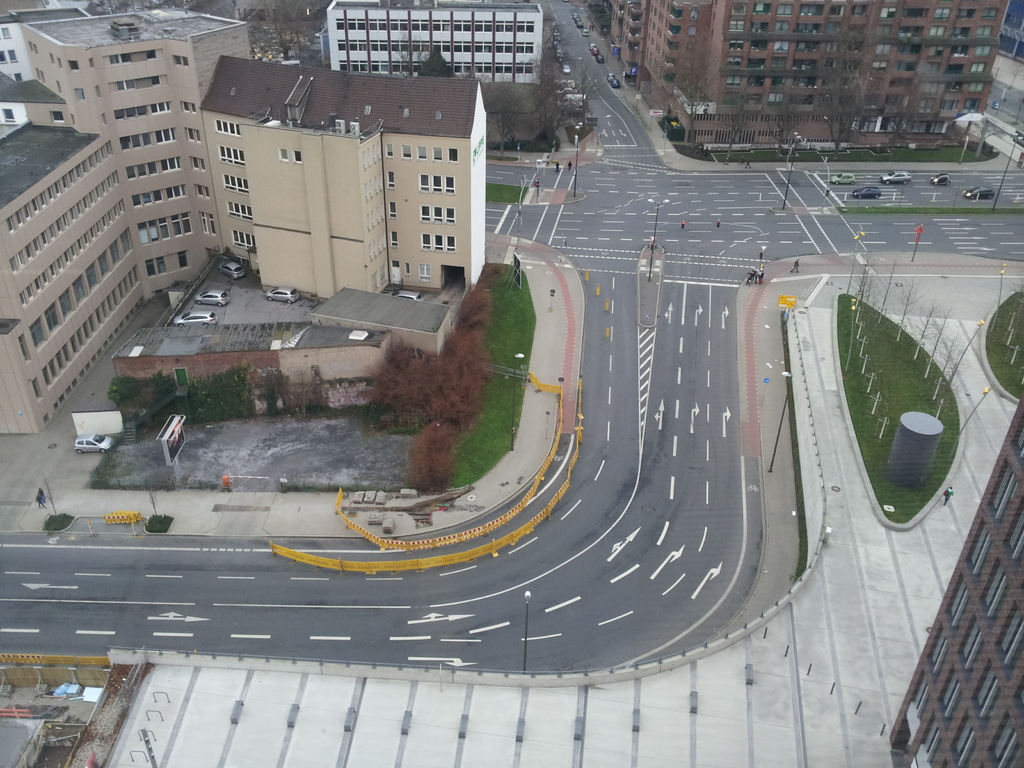person: (362, 270, 500, 498)
